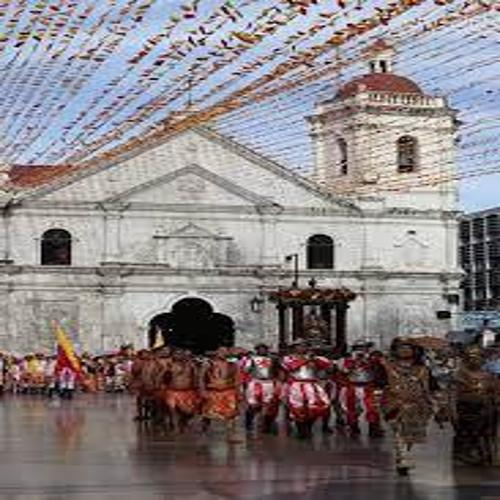Sto. Nino Basilica Church: (2, 26, 469, 378)
